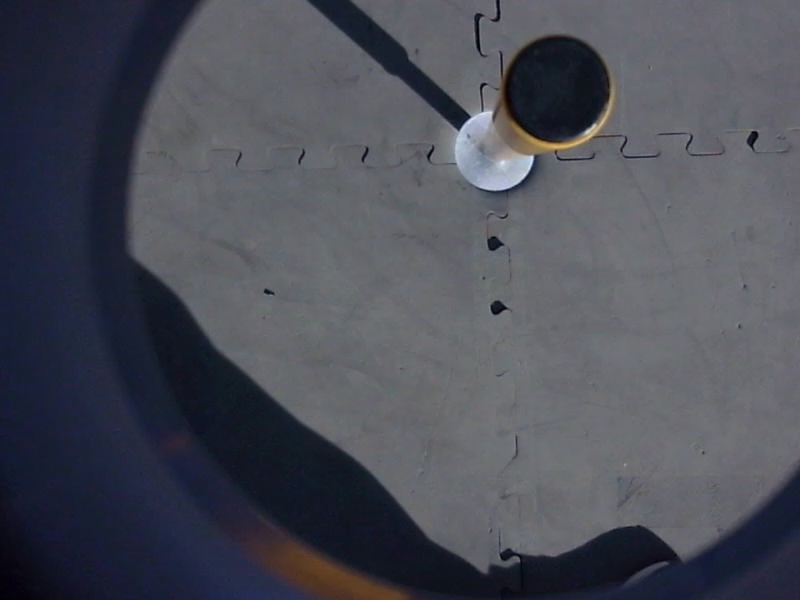tip: (495, 27, 620, 156)
